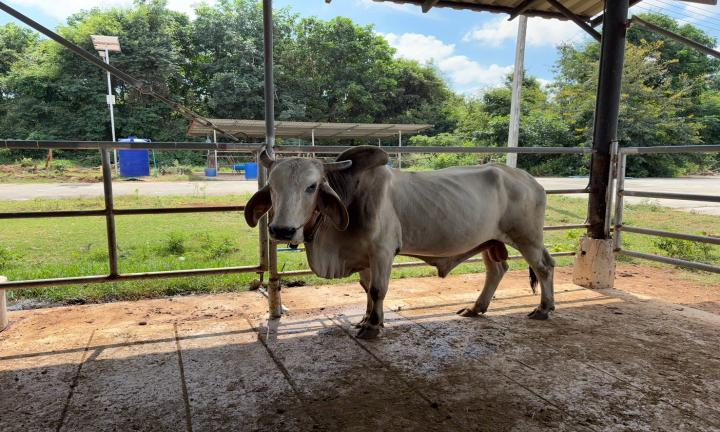Brahman: (245, 145, 554, 338)
